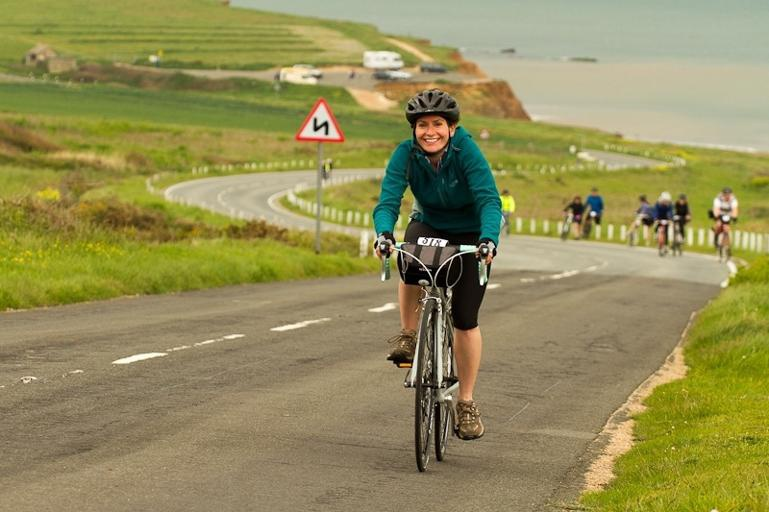non-vehicle: (373, 238, 491, 472), (711, 216, 739, 263), (653, 219, 671, 258), (672, 216, 685, 257), (581, 210, 598, 239), (558, 211, 572, 238)
